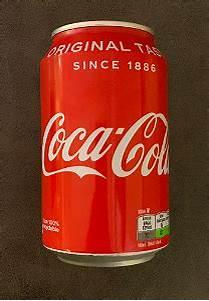metal: (40, 21, 170, 268)
